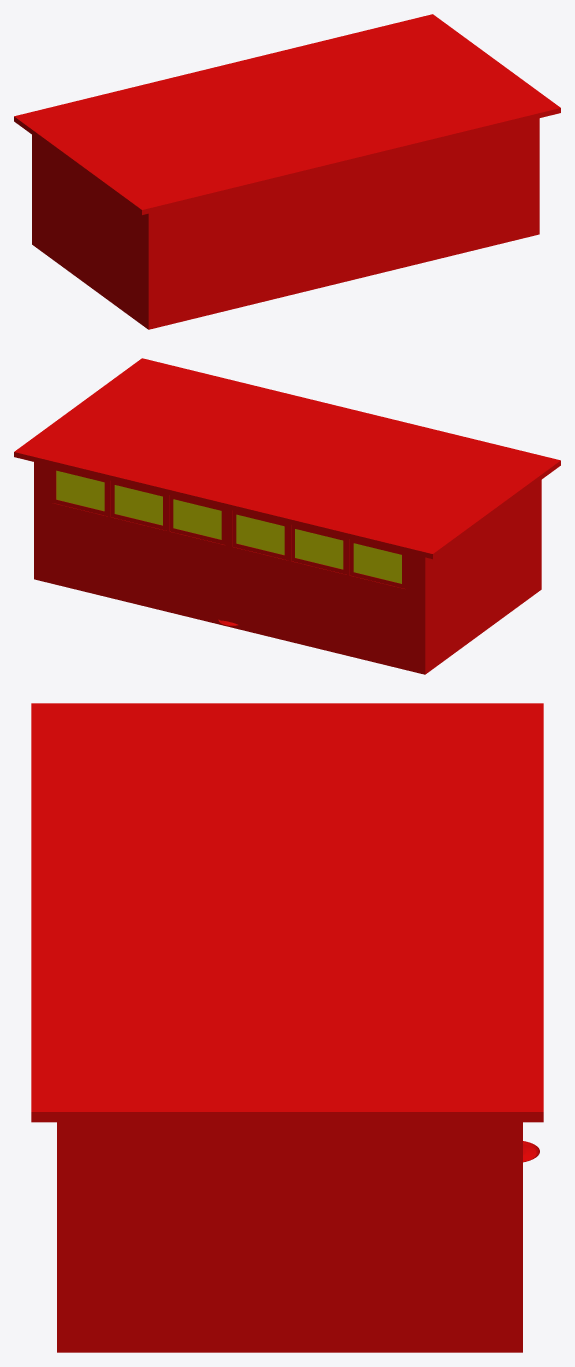
File: RoboTHOR_room.fbx
3 views of the same model, one above another, from view 1: azimuth 30°, elevation 25°; view 2: azimuth 150°, elevation 25°; view 3: azimuth 270°, elevation 25° (orthographic). The views are drawn at different scales.
Visible parts, largest first — view 1: robothor_wall, robothor_ceiling, robothor_floor; view 2: robothor_wall, robothor_ceiling, robothor_floor; view 3: robothor_ceiling, robothor_wall, robothor_floor.
Part boxes in pixels (bbox=[...]): robothor_wall: bbox=[32, 118, 539, 324]; robothor_ceiling: bbox=[14, 14, 560, 214]; robothor_floor: bbox=[32, 229, 539, 329]; robothor_wall: bbox=[34, 462, 541, 669]; robothor_ceiling: bbox=[14, 358, 560, 559]; robothor_floor: bbox=[34, 574, 541, 674]; robothor_ceiling: bbox=[31, 703, 543, 1122]; robothor_wall: bbox=[57, 1122, 522, 1342]; robothor_floor: bbox=[57, 1342, 522, 1352].
Bounding box in the file's own units: 976 × 284 × 517.
